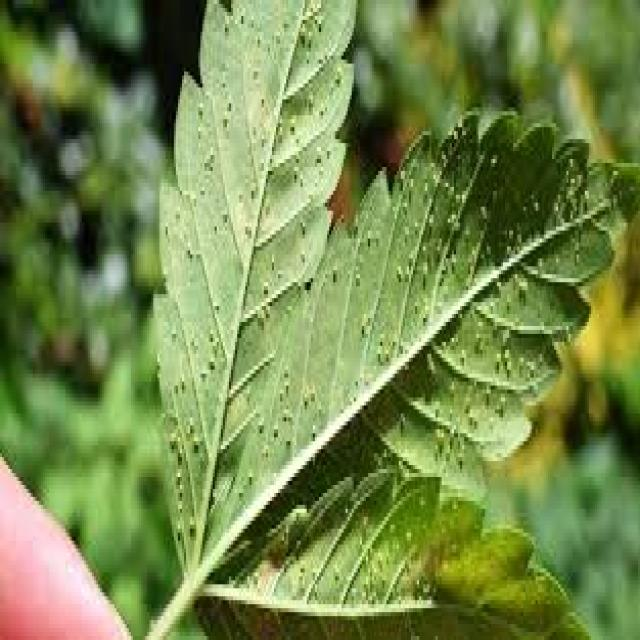aphid: (327, 552, 342, 588), (417, 250, 432, 286), (184, 504, 198, 540), (163, 422, 178, 454), (188, 425, 203, 457), (253, 143, 268, 175), (325, 254, 340, 286), (170, 512, 184, 544), (268, 20, 284, 48), (303, 80, 317, 112), (452, 441, 466, 473), (219, 4, 231, 40), (356, 306, 368, 342), (192, 92, 207, 120), (298, 40, 313, 68), (247, 560, 262, 588), (290, 528, 305, 556), (513, 346, 528, 374), (515, 266, 530, 294), (437, 167, 452, 195), (245, 171, 258, 203), (204, 135, 217, 167), (294, 12, 307, 44), (284, 104, 297, 136), (298, 382, 311, 414), (206, 210, 223, 234), (182, 406, 196, 434), (264, 242, 278, 270), (278, 426, 292, 454), (456, 179, 470, 207), (305, 374, 317, 406), (497, 338, 513, 362), (395, 159, 407, 191), (350, 258, 362, 290), (362, 218, 374, 250), (307, 414, 319, 446), (395, 402, 409, 429), (204, 346, 217, 374), (251, 298, 264, 326), (241, 461, 254, 489), (253, 410, 266, 438), (294, 548, 307, 576), (372, 540, 385, 568), (429, 390, 442, 418), (423, 202, 436, 230), (202, 318, 217, 342), (239, 214, 254, 238), (249, 24, 264, 48), (476, 195, 489, 222), (390, 255, 403, 282), (172, 493, 184, 521), (217, 198, 231, 222), (215, 68, 229, 92), (272, 115, 284, 143), (268, 414, 280, 442), (278, 354, 290, 382), (358, 544, 372, 568), (444, 370, 456, 398), (456, 338, 468, 366), (501, 350, 513, 378), (485, 143, 499, 167), (446, 242, 458, 270), (448, 119, 460, 147), (548, 187, 560, 214), (399, 215, 411, 242), (532, 247, 546, 270), (223, 88, 233, 120), (288, 155, 298, 187), (311, 135, 321, 167), (296, 238, 306, 270), (446, 322, 456, 354), (196, 358, 209, 382), (208, 290, 221, 314), (190, 238, 203, 262), (247, 60, 260, 84), (282, 402, 295, 426), (384, 512, 397, 536), (372, 406, 385, 430), (484, 290, 497, 314), (564, 147, 577, 171), (511, 222, 524, 246), (417, 302, 430, 326), (168, 369, 180, 394), (300, 24, 315, 44), (166, 318, 178, 342), (182, 238, 194, 262), (313, 96, 325, 120), (258, 274, 270, 298), (260, 294, 272, 318), (233, 477, 245, 501), (358, 505, 370, 529), (401, 520, 413, 544), (495, 386, 507, 410), (548, 242, 560, 266), (579, 179, 591, 203), (501, 234, 513, 258), (444, 175, 456, 199), (454, 108, 466, 132), (174, 437, 184, 465), (176, 366, 186, 394), (219, 104, 229, 132), (321, 135, 331, 163), (296, 210, 306, 238), (274, 378, 284, 406), (242, 560, 252, 588), (280, 512, 290, 540), (340, 493, 350, 521), (430, 433, 440, 461), (446, 493, 460, 513), (480, 374, 490, 402), (491, 342, 501, 370), (501, 282, 511, 310), (448, 214, 462, 234), (530, 187, 540, 214), (409, 207, 419, 234), (255, 127, 268, 147), (523, 354, 536, 374), (172, 461, 182, 485), (160, 214, 170, 238), (313, 8, 323, 32), (364, 426, 374, 450), (460, 386, 470, 410), (464, 398, 474, 422), (415, 485, 425, 509), (474, 330, 484, 354), (564, 198, 574, 222), (405, 171, 415, 195), (409, 294, 421, 314), (372, 342, 382, 366), (401, 255, 409, 282), (174, 477, 184, 497), (192, 119, 202, 139), (309, 4, 319, 24), (436, 330, 446, 350), (509, 262, 519, 282), (503, 218, 513, 238), (380, 342, 390, 362), (411, 568, 421, 588), (420, 171, 428, 195), (374, 326, 384, 342)
